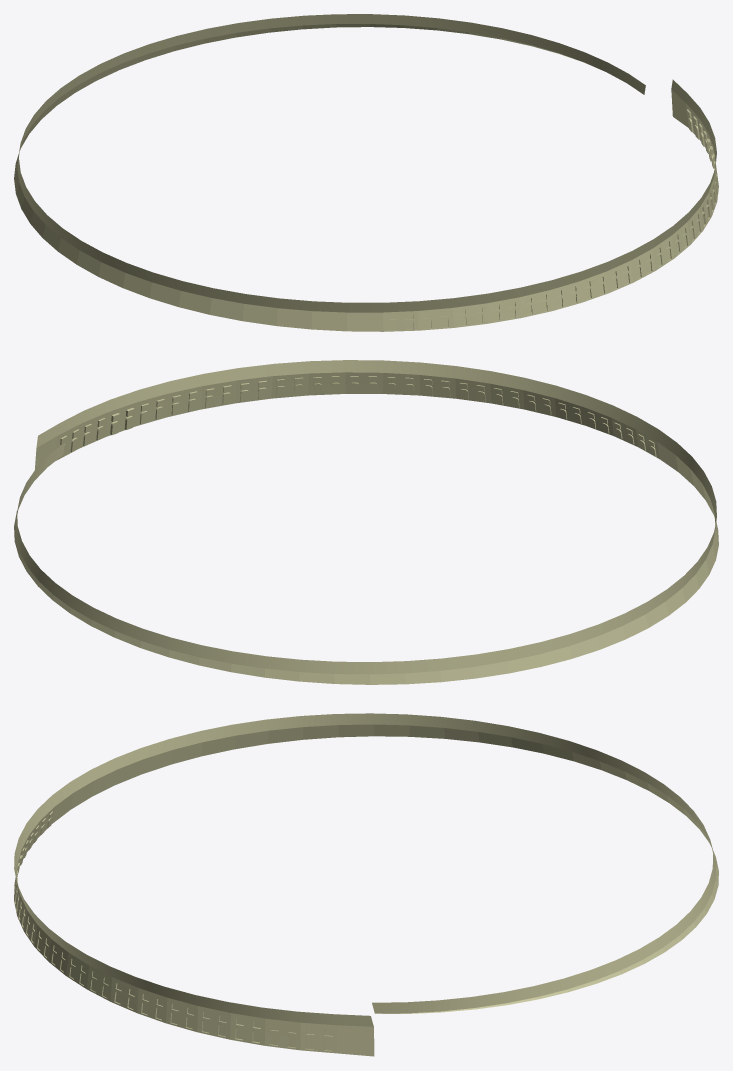
The model's file is Borde_Exterior.fbx.
3 renders of one model, top to bottom at view 1: azimuth 30°, elevation 25°; view 2: azimuth 150°, elevation 25°; view 3: azimuth 270°, elevation 25°, orthographic. The views are drawn at different scales.
Parts seen in each view (by area): view 1: Spiral.001; view 2: Spiral.001; view 3: Spiral.001.
Boxes of the visible parts, x1,y1,x2,y2 form: Spiral.001: (14,14,718,331); Spiral.001: (14,360,718,684); Spiral.001: (14,713,718,1056).
Size of the model in its own units: 23618 by 1439 by 23082.
